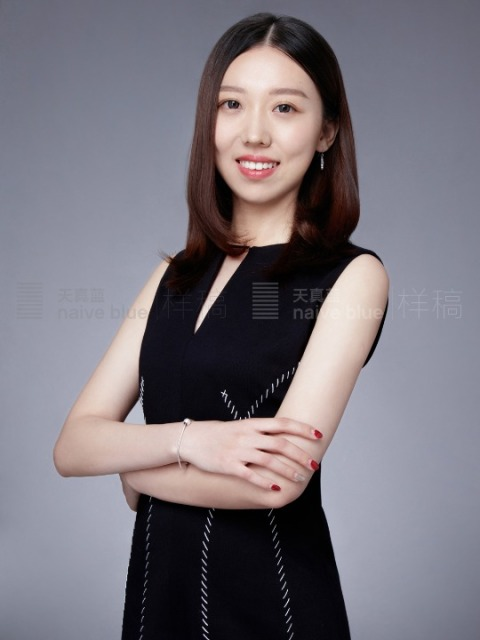unmask: (216, 49, 321, 202)
